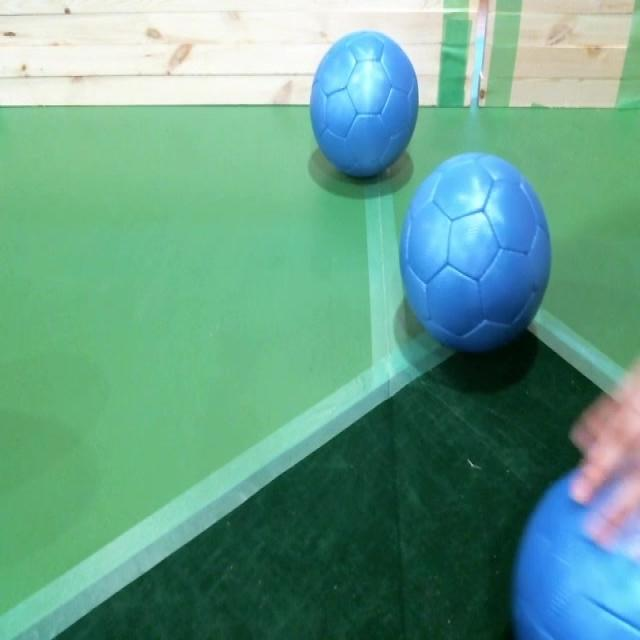blue_ball: (398, 153, 553, 367), (515, 464, 640, 640), (309, 30, 419, 180)
